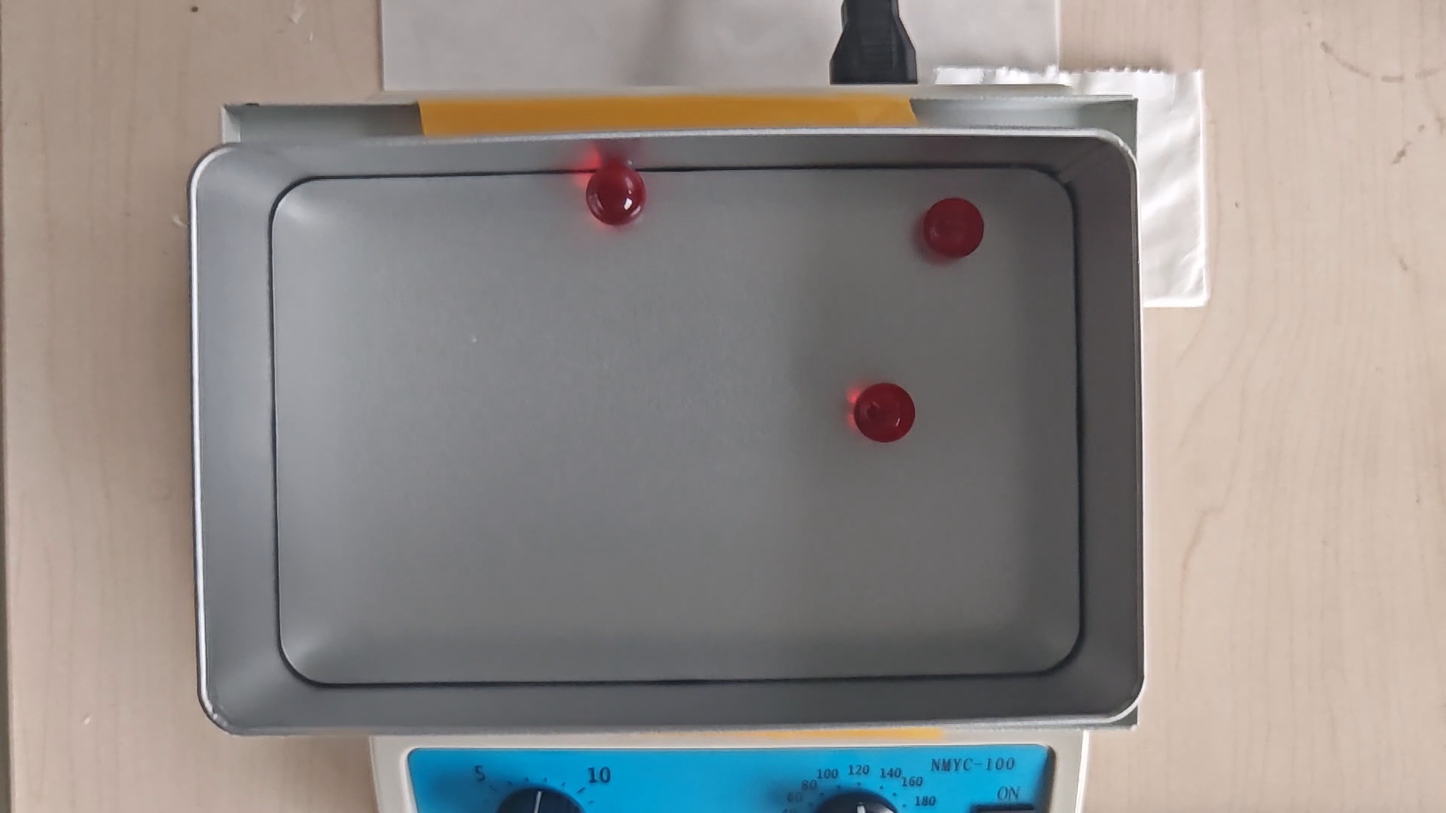ball: (853, 380, 916, 446), (587, 165, 647, 228), (923, 197, 983, 258)
container: (274, 167, 1080, 682)
